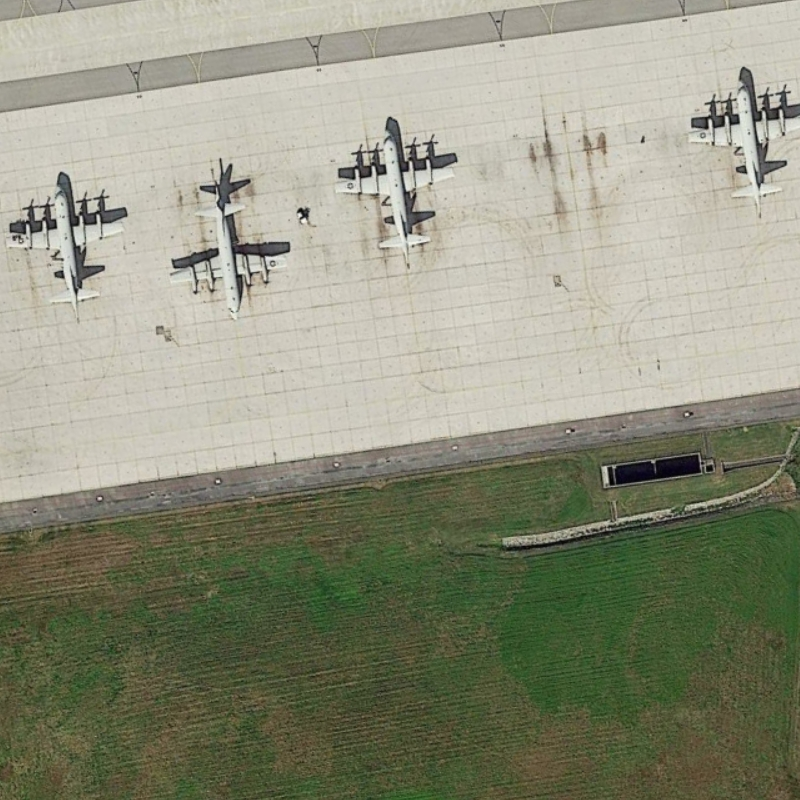A9: (164, 156, 299, 323), (3, 177, 132, 331), (331, 125, 463, 272), (676, 73, 800, 223)
